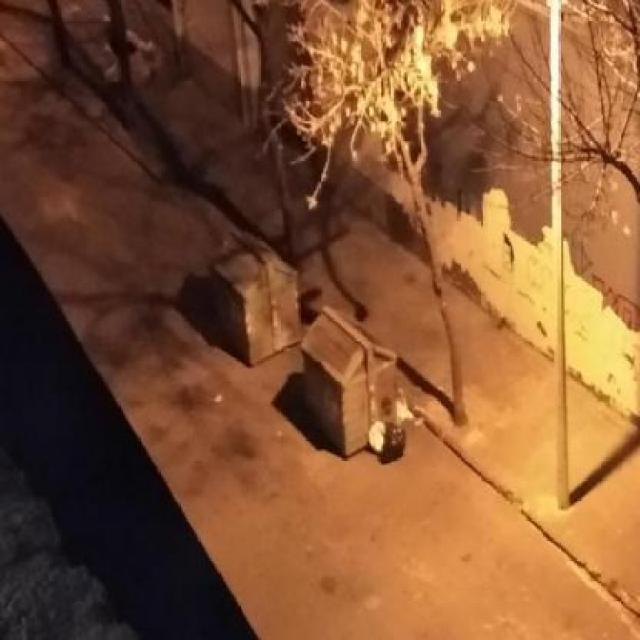garbage: (365, 405, 412, 474)
